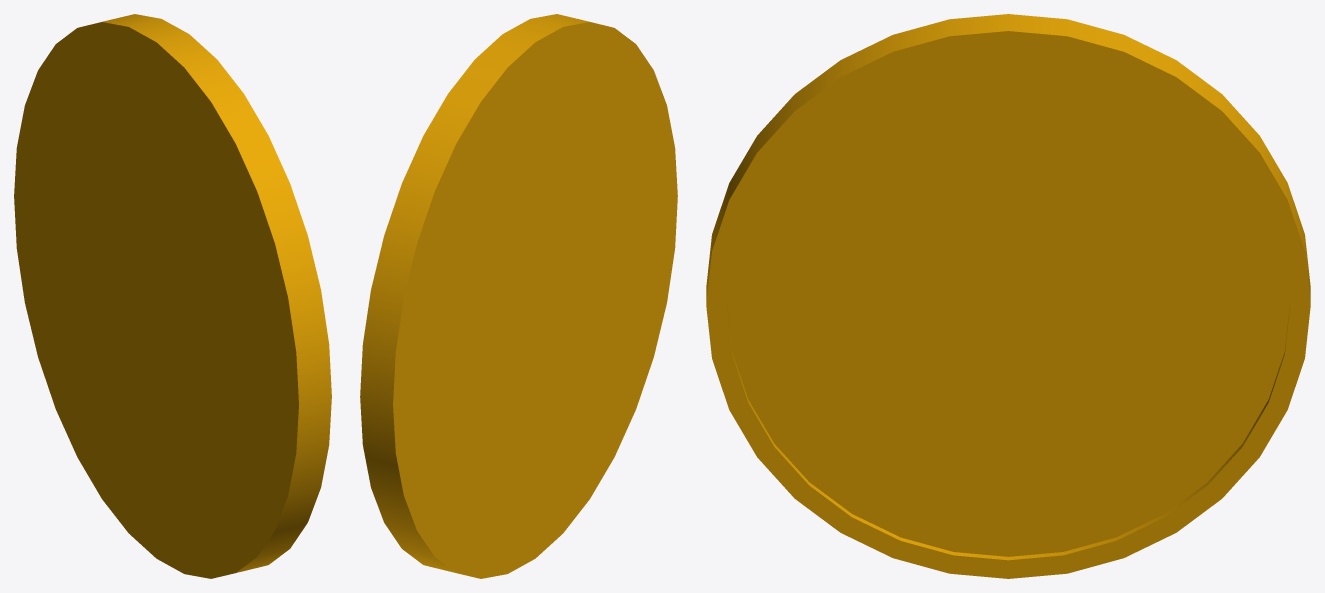
File: Riddle2.glb
3 views of the same model, side by side, from view 1: azimuth 30°, elevation 25°; view 2: azimuth 150°, elevation 25°; view 3: azimuth 270°, elevation 25° (orthographic). The views are drawn at different scales.
Visible parts, largest first — view 1: Cylinder.029; view 2: Cylinder.029; view 3: Cylinder.029.
Boxes of the visible parts, x1,y1,x2,y2 form: Cylinder.029: [14, 14, 331, 578]; Cylinder.029: [360, 14, 677, 578]; Cylinder.029: [706, 14, 1310, 578].
Size of what is drawn, in the model's own units: 0.0401 by 0.6 by 0.6.
